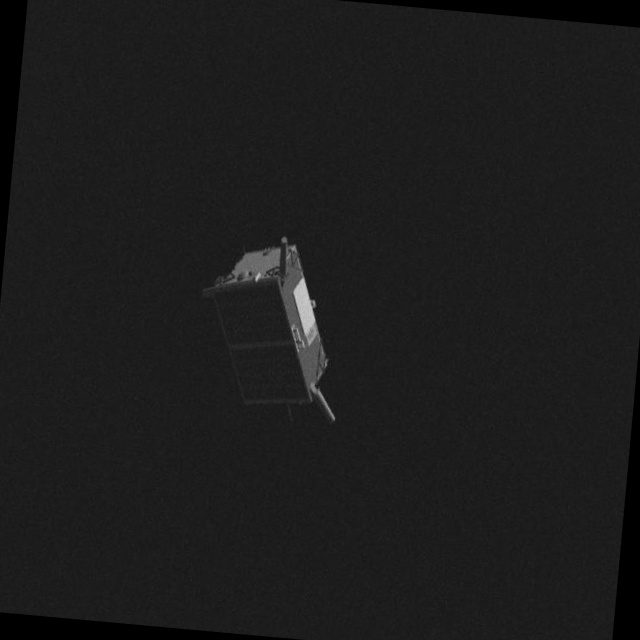satellite: (185, 227, 353, 432)
